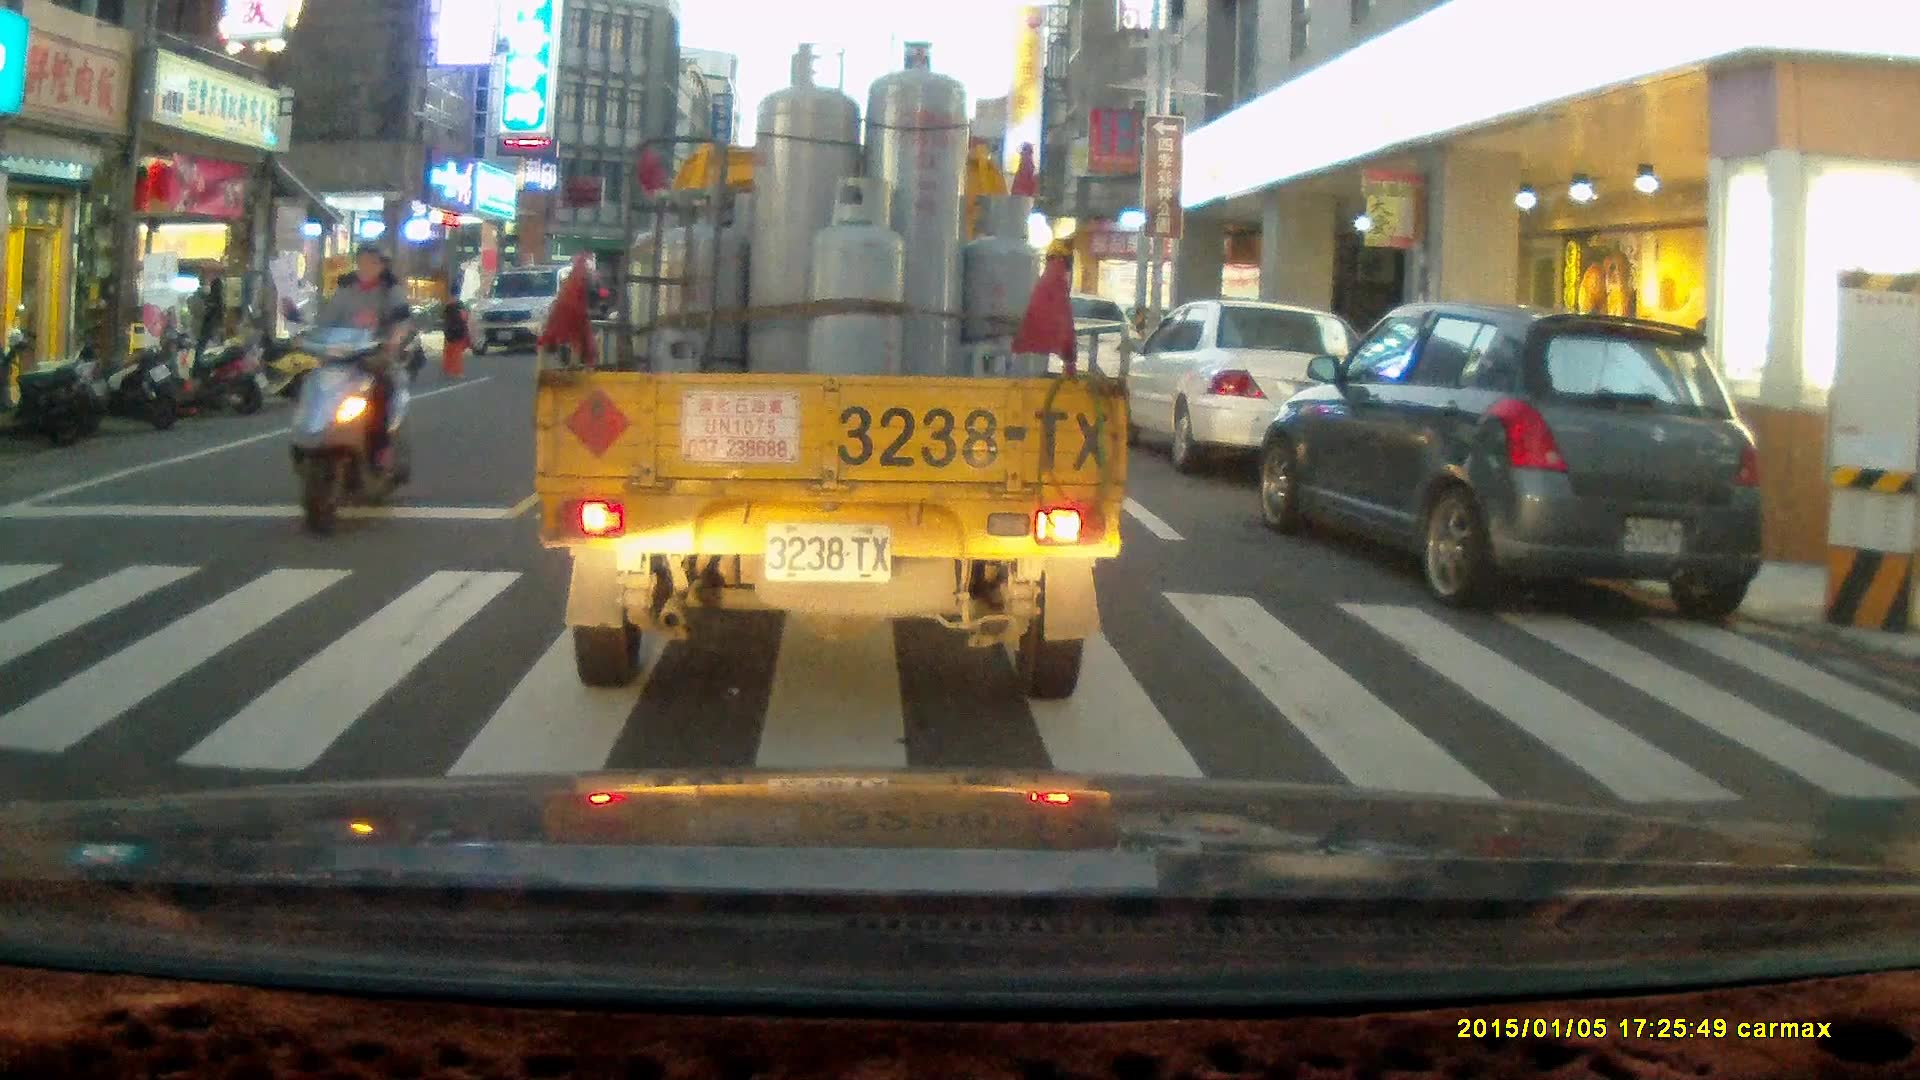pedestrian: (436, 276, 480, 375), (186, 273, 219, 378)
rider: (274, 234, 420, 538)
vehicle: (535, 61, 1126, 702), (1254, 298, 1767, 621), (1125, 301, 1376, 478), (1026, 295, 1160, 413), (466, 268, 584, 361)
